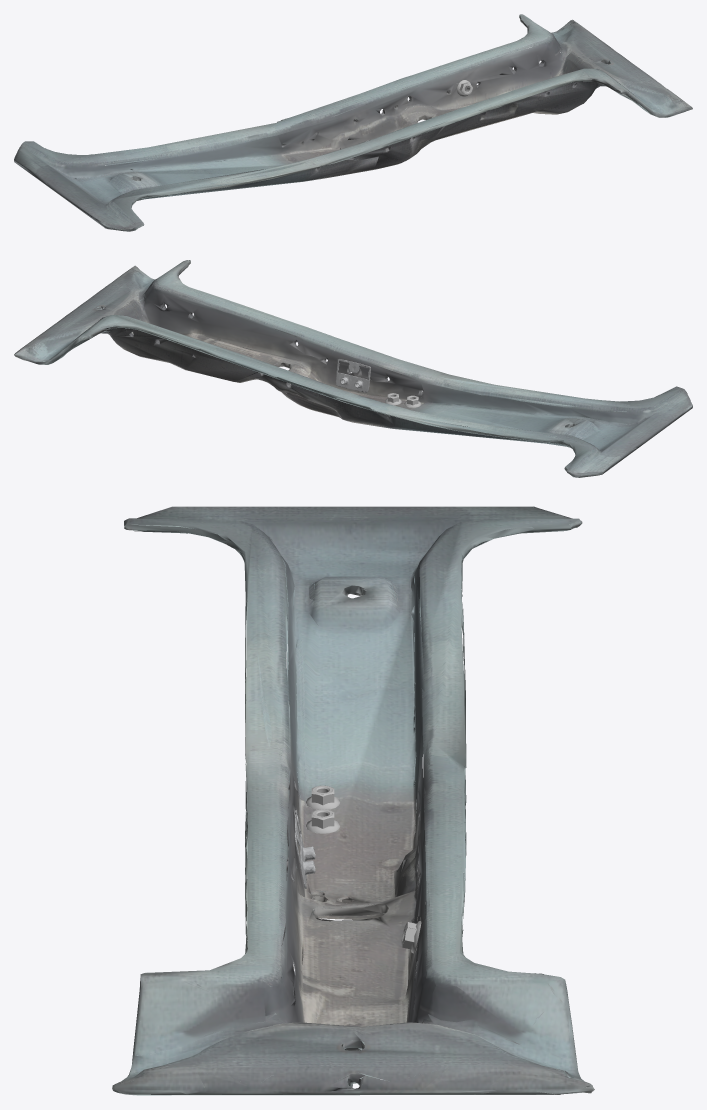
3 renders of one model, top to bottom at view 1: azimuth 30°, elevation 25°; view 2: azimuth 150°, elevation 25°; view 3: azimuth 270°, elevation 25°, orthographic. The views are drawn at different scales.
Parts seen in each view (by area): view 1: PecaPrincipal; view 2: PecaPrincipal, Chapa; view 3: PecaPrincipal.
Boxes of the visible parts, x1,y1,x2,y2 form: PecaPrincipal: [14, 14, 692, 231]; PecaPrincipal: [14, 260, 692, 477]; Chapa: [335, 359, 370, 392]; PecaPrincipal: [112, 506, 594, 1095].
Bounding box in the file's own units: 1.9 × 0.1891 × 0.691.
Materials: 5 (2 with a texture image).
